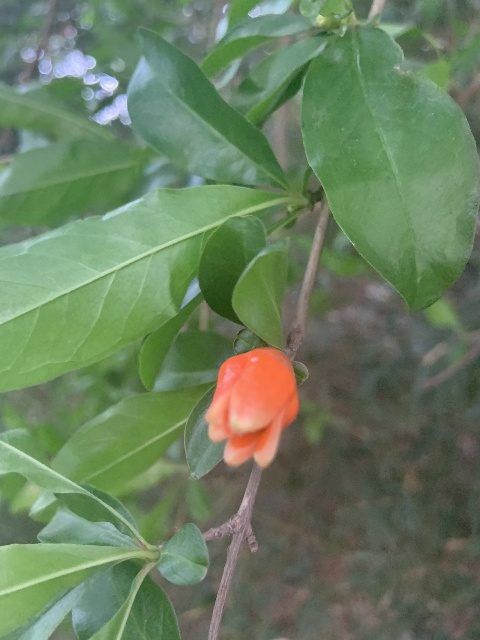flower: (204, 346, 299, 469)
